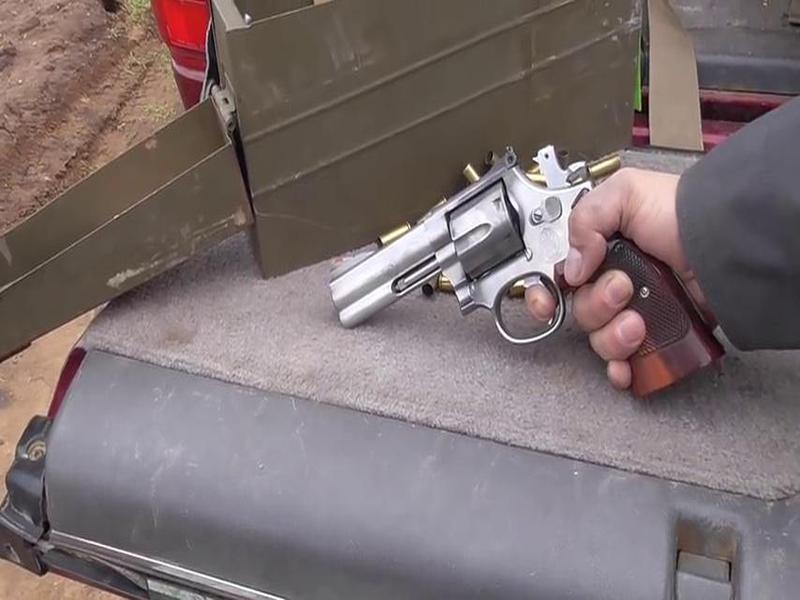Revolver: (329, 142, 641, 376)
